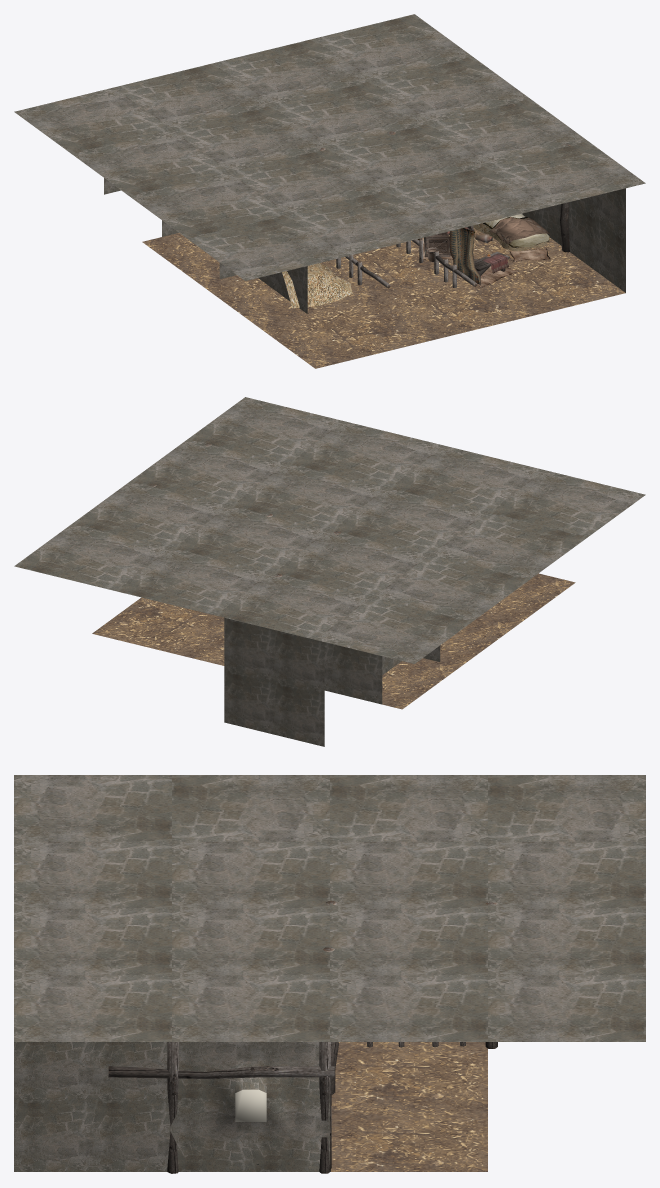
The model's file is pawn_room.glb.
The picture shows the model from 3 angles, top to bottom: view 1: azimuth 30°, elevation 25°; view 2: azimuth 150°, elevation 25°; view 3: azimuth 270°, elevation 25°; orthographic projection. The views are drawn at different scales.
Parts seen in each view (by area): view 1: FModMeshpart 001; view 2: FModMeshpart 001; view 3: FModMeshpart 001.
Boxes of the visible parts, left/top/right/bottom form: FModMeshpart 001: left=14, top=14, right=645, bottom=368; FModMeshpart 001: left=14, top=397, right=645, bottom=746; FModMeshpart 001: left=14, top=775, right=645, bottom=1173.
Size of the model in its own units: 20 by 5.02 by 20.
Materials: 6 (6 with a texture image).
